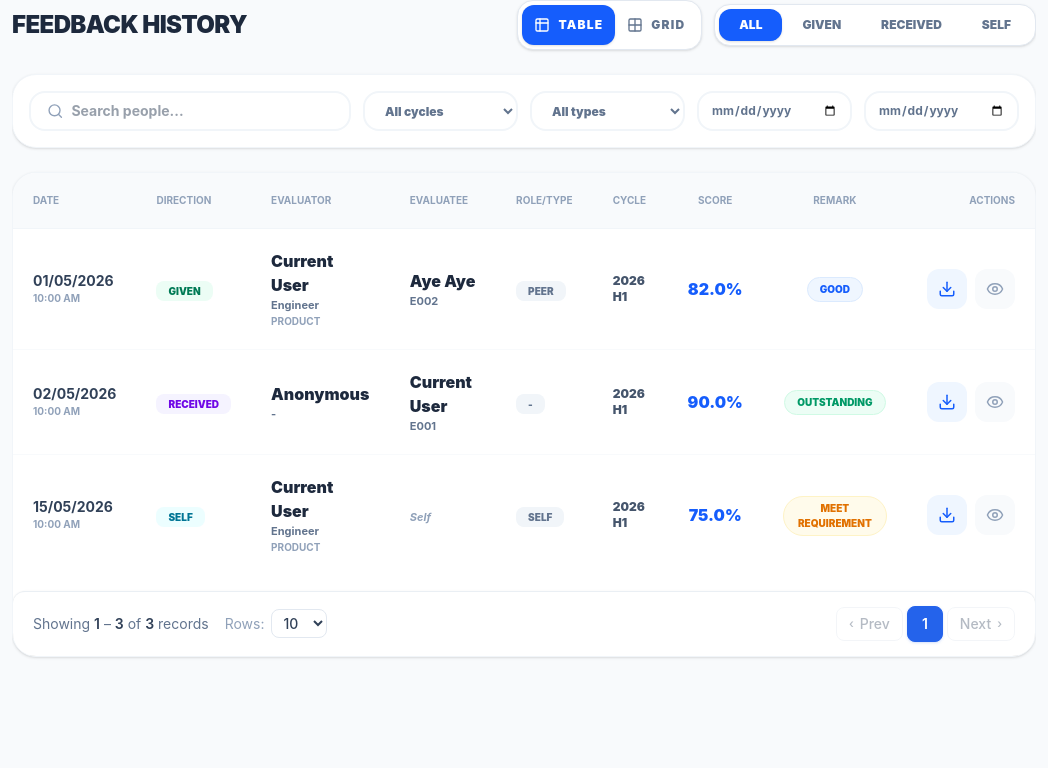
Test: CombinedFeedbackHistoryPage › navigates to a details page from row view action
The width and height of the screenshot is (1048, 768).
Expected: the text "Aye Aye" is shown, [410, 268, 476, 292]
Click the button titled "View details" in the row of "01/05/2026" at (995, 289), box [975, 269, 1015, 309]
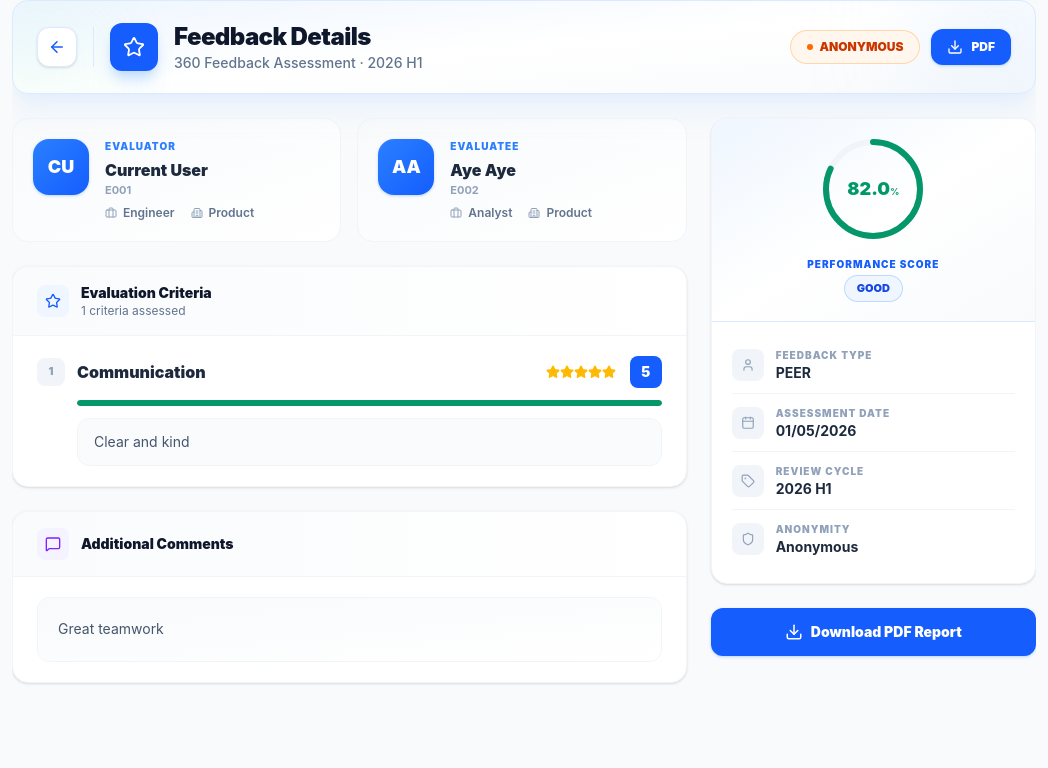
Result: the heading "Feedback Details" is shown at [174, 22, 371, 51]
Result: the heading "Communication" is shown at [77, 360, 206, 384]
